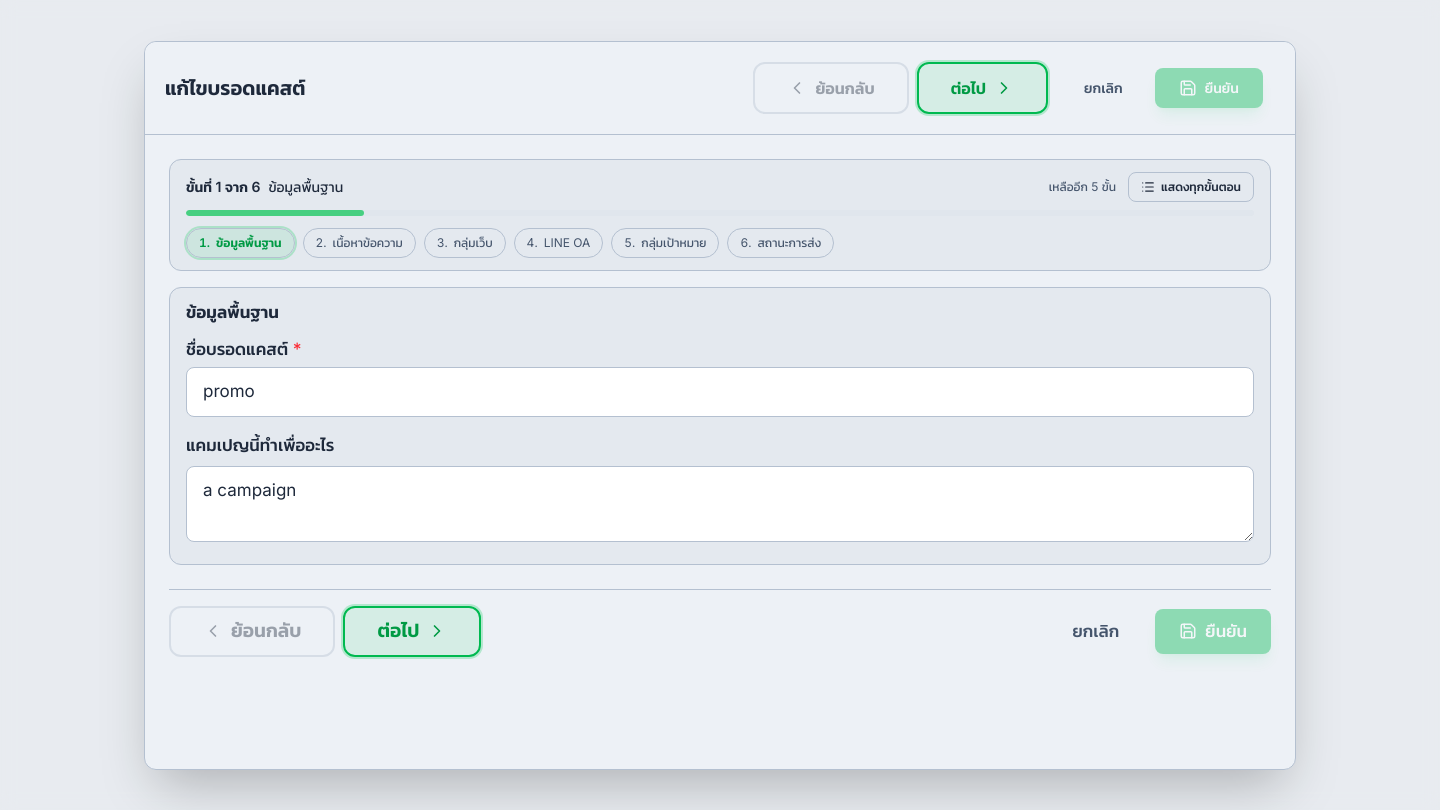
Test: the form — switching to Broadcast says what happened › ⭐⭐ a job STORED as a broadcast with conditions says so on open
The image size is (1440, 810).
Click the button with test id "-toggle". click: (1191, 186)
box: [1128, 172, 1254, 202]
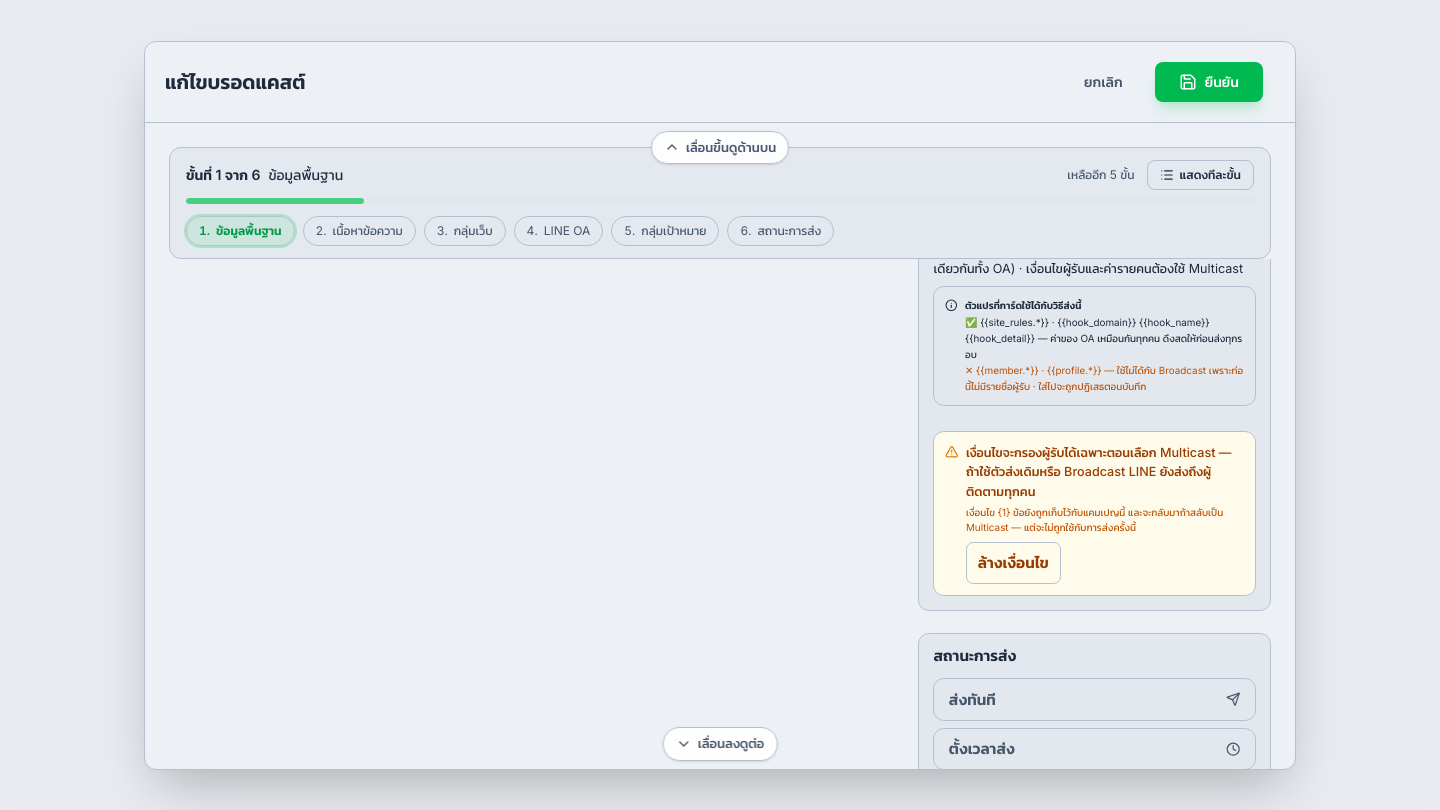
Now the element with test id "audience-kept-notice" is shown, box [934, 431, 1256, 596]
